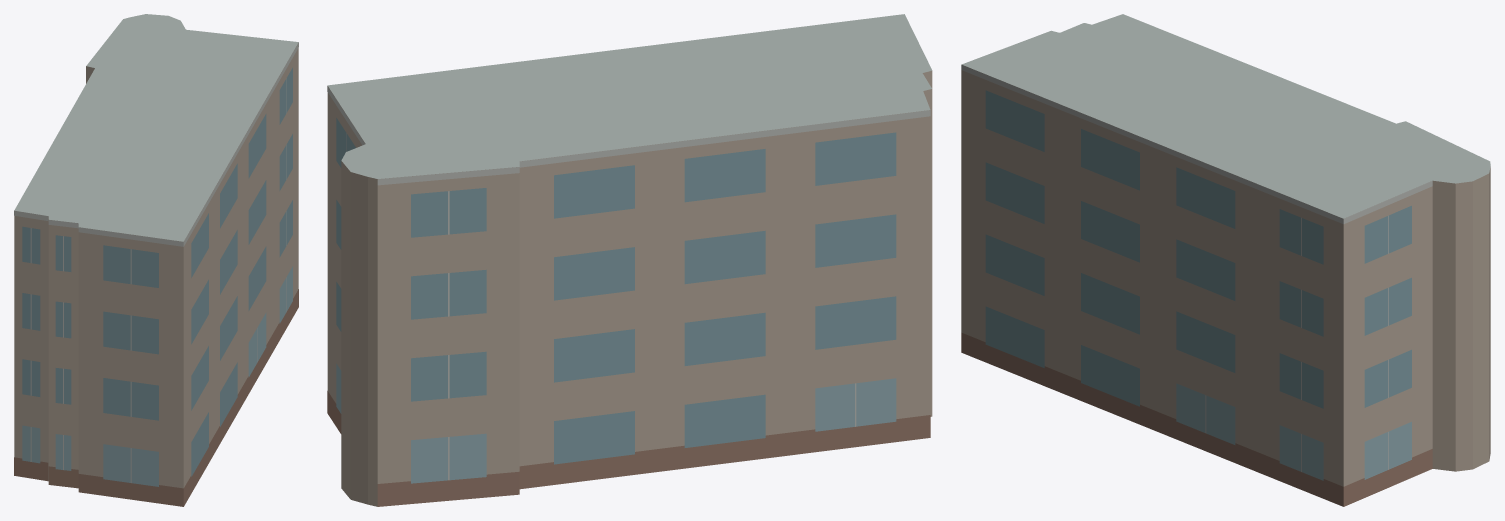
File: survey-upis-32929009.glb
The picture shows the model from 3 angles, left to right: view 1: azimuth 30°, elevation 25°; view 2: azimuth 150°, elevation 25°; view 3: azimuth 270°, elevation 25°; orthographic projection. The views are drawn at different scales.
Visible parts, largest first — view 1: survey-upis-32929009.tmp; view 2: survey-upis-32929009.tmp; view 3: survey-upis-32929009.tmp.
Boxes of the visible parts, <box> form: survey-upis-32929009.tmp: <box>14,14,298,506</box>; survey-upis-32929009.tmp: <box>327,14,932,506</box>; survey-upis-32929009.tmp: <box>961,14,1490,506</box>.
Bounding box in the file's own units: 19.37 × 12.7 × 21.14.
